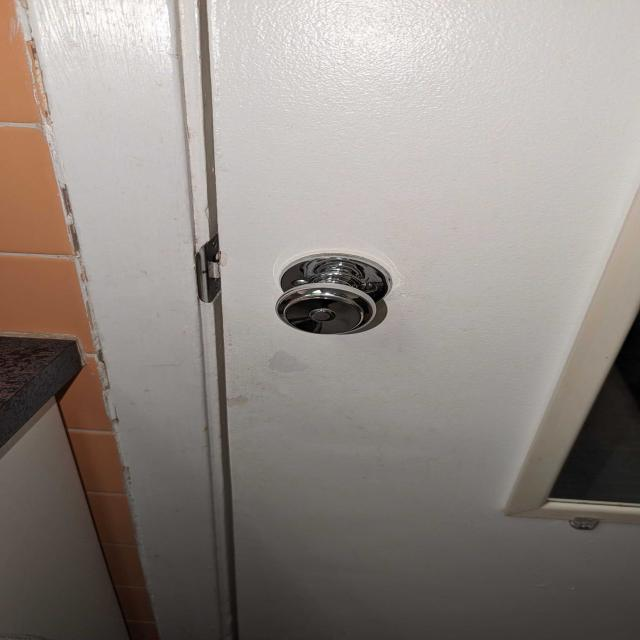door-knob: (276, 254, 391, 334)
